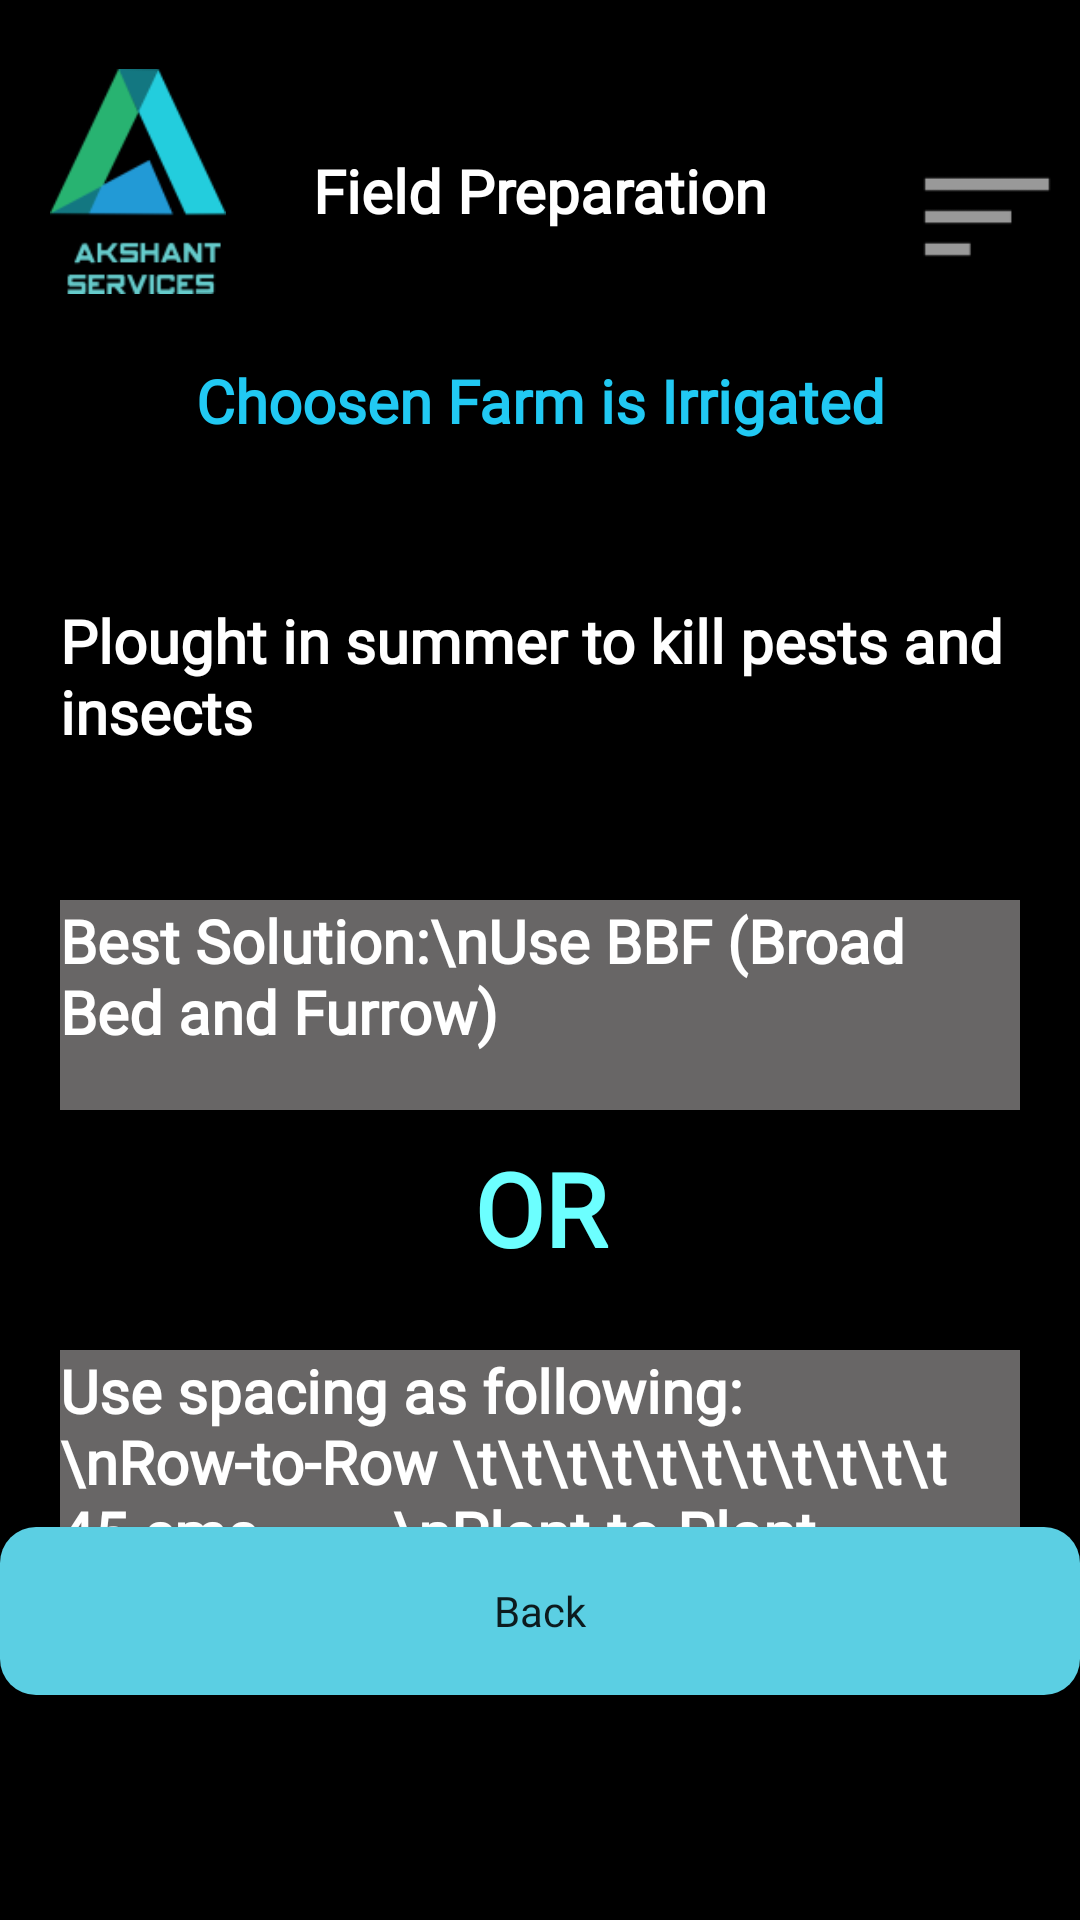

Where icons sit on this 1080×1920 app screen, as (x1, y1, x2, y2):
sort by size: (924, 177, 1050, 256)
